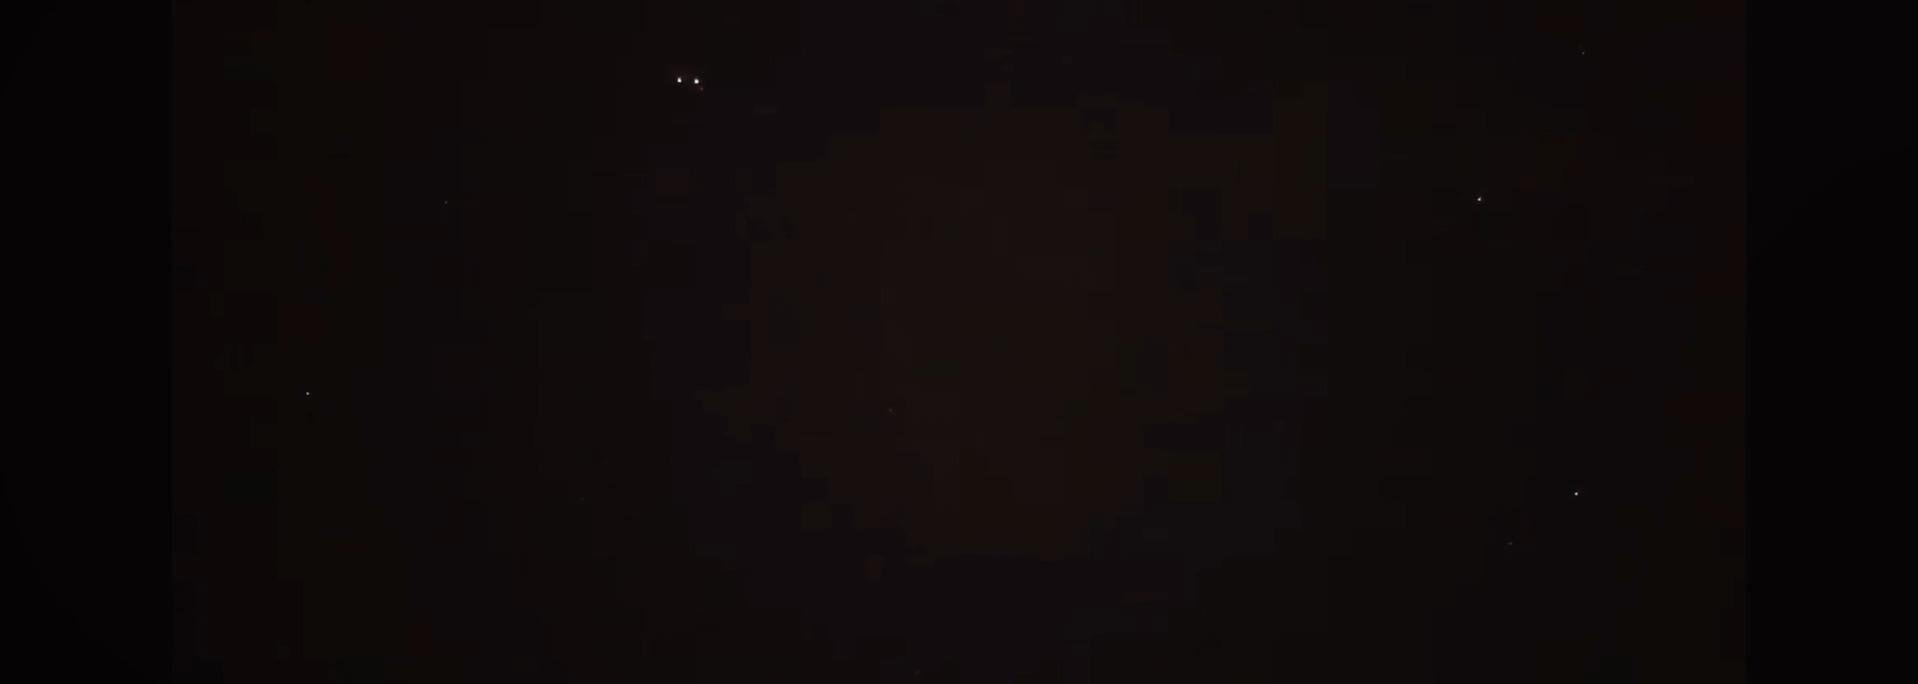Plane: (650, 65, 735, 98)
